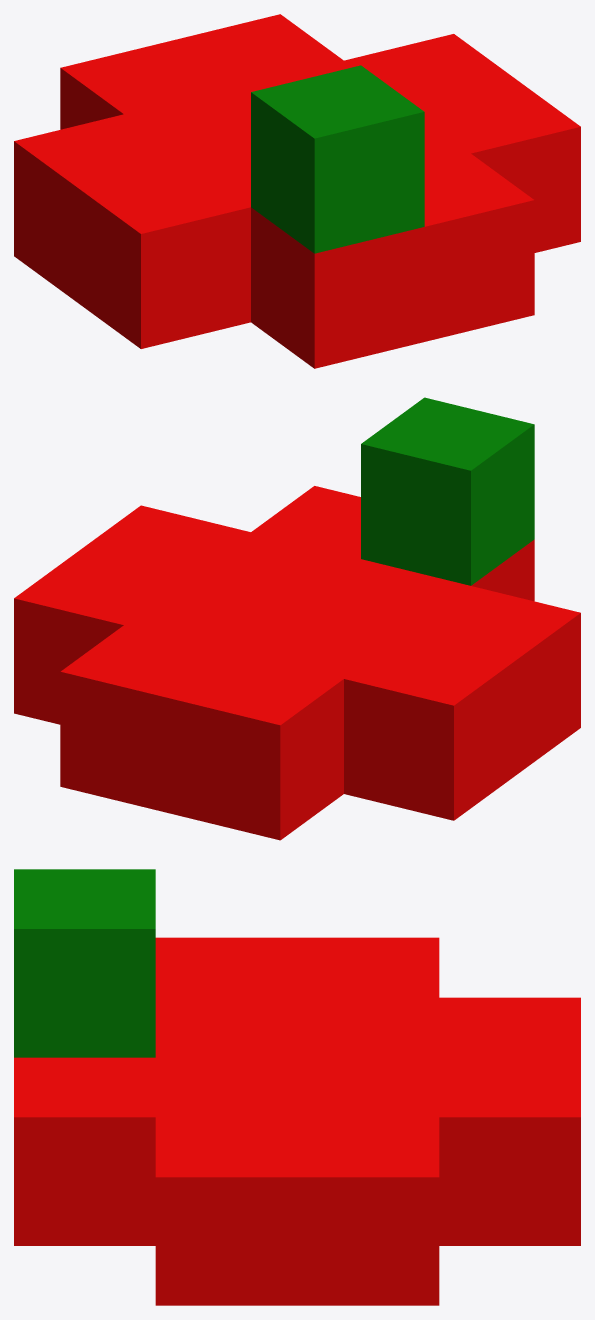
File: plant_tomato_f9.vox.obj
3 views of the same model, one above another, from view 1: azimuth 30°, elevation 25°; view 2: azimuth 150°, elevation 25°; view 3: azimuth 270°, elevation 25° (orthographic). The views are drawn at different scales.
Bounding box in the file's own units: 0.4 × 0.2 × 0.4.
1 material, 1 textured.
